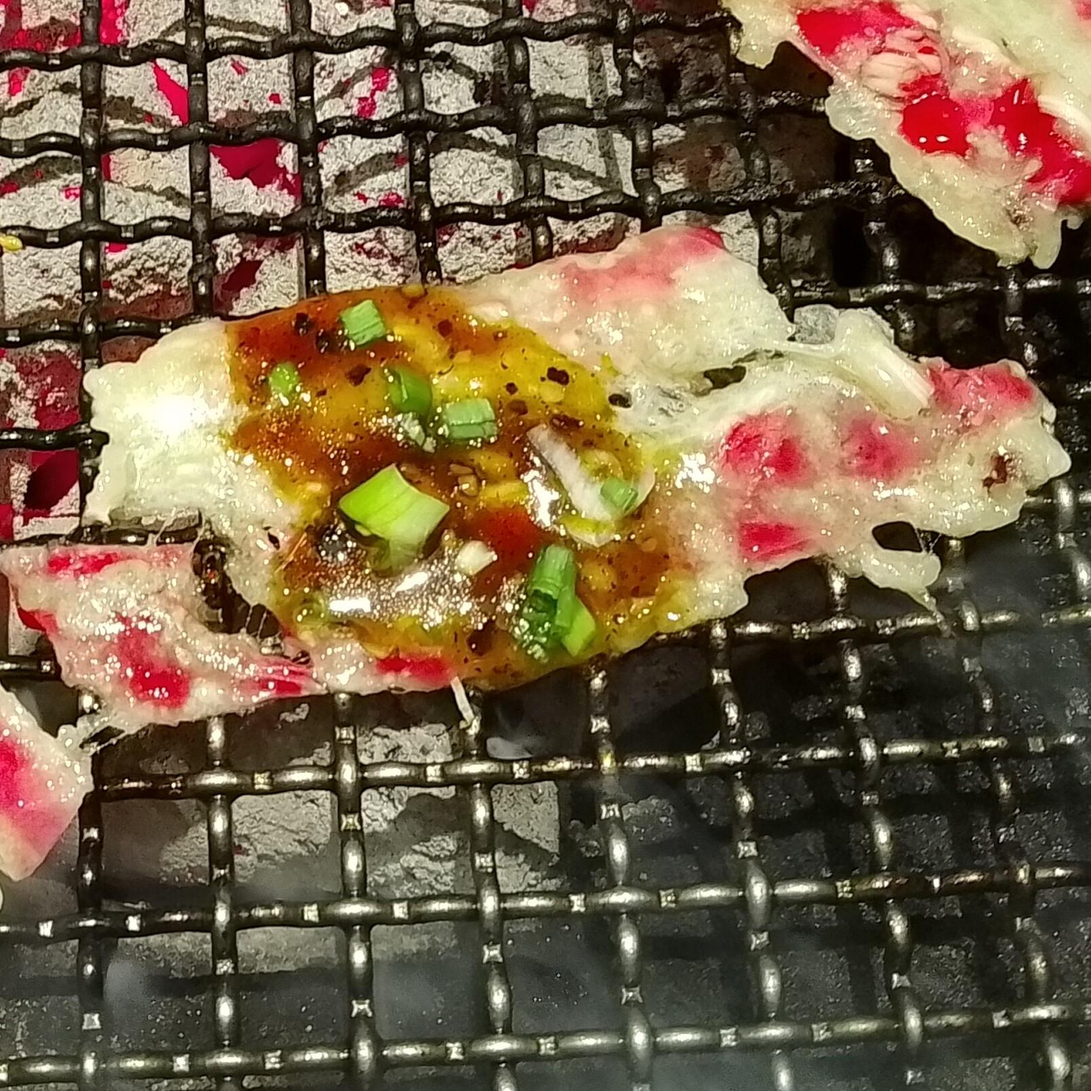Undercooked: (0, 227, 1070, 886), (720, 0, 1090, 267)
